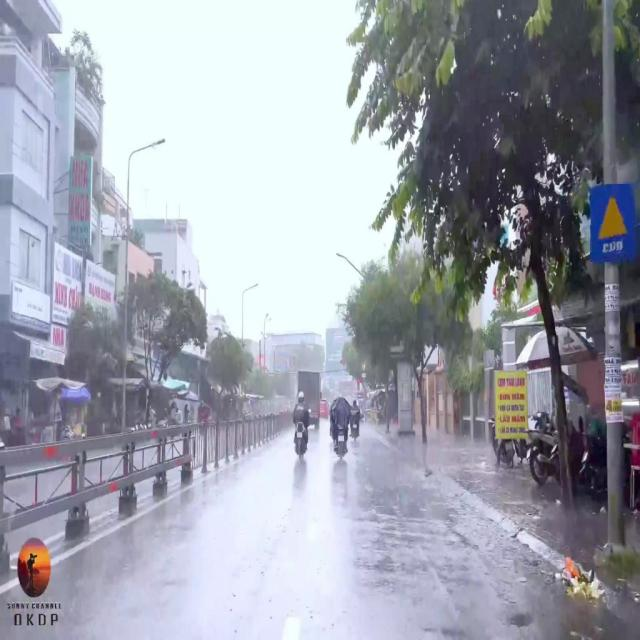cho: (590, 184, 635, 262)
